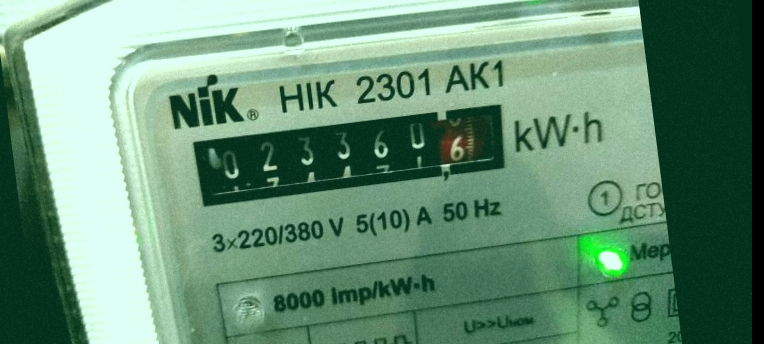0: (217, 145, 242, 180), (406, 117, 427, 150)
2: (255, 137, 282, 174)
3: (292, 132, 317, 167), (331, 127, 354, 160)
6: (367, 125, 391, 159), (443, 130, 468, 162)
screen: (172, 83, 524, 223)
